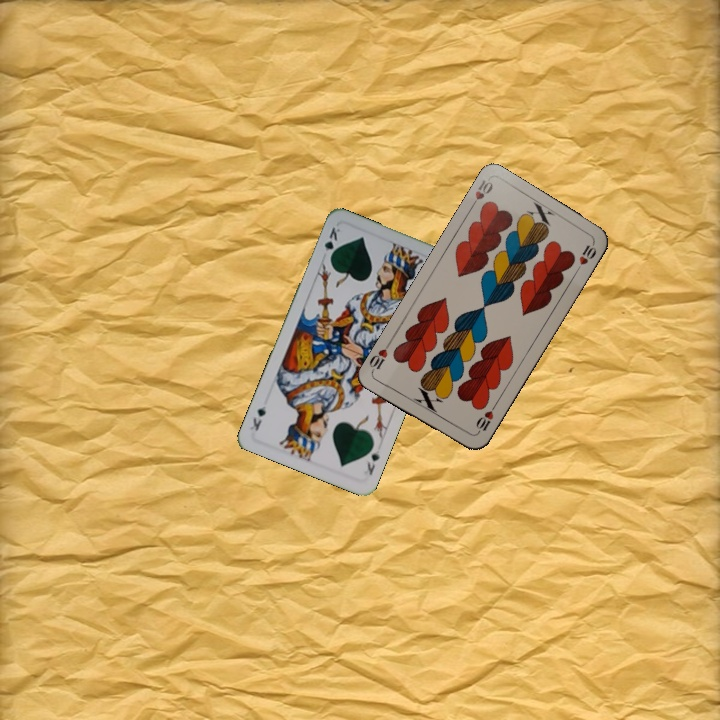GK: (320, 223, 344, 263), (363, 445, 382, 478)
H10: (466, 175, 496, 212), (472, 401, 499, 437)
